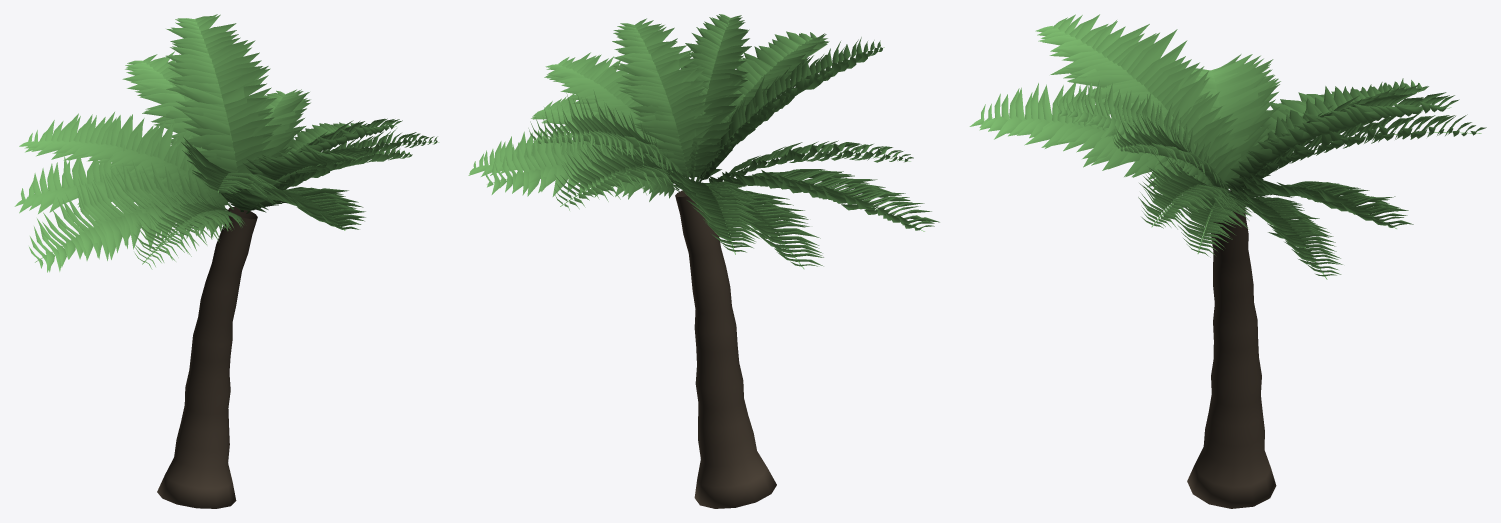
Rendered from SM_Palm_04_Short.fbx.
3 renders of one model, left to right at view 1: azimuth 30°, elevation 25°; view 2: azimuth 150°, elevation 25°; view 3: azimuth 270°, elevation 25°, orthographic. The views are drawn at different scales.
Visible parts, largest first — view 1: SM_Palm_04_Short; view 2: SM_Palm_04_Short; view 3: SM_Palm_04_Short.
Boxes of the visible parts, x1,y1,x2,y2 form: SM_Palm_04_Short: (14,14,439,508); SM_Palm_04_Short: (468,14,939,508); SM_Palm_04_Short: (969,14,1486,508).
Bounding box in the file's own units: 402 × 400 × 419.
